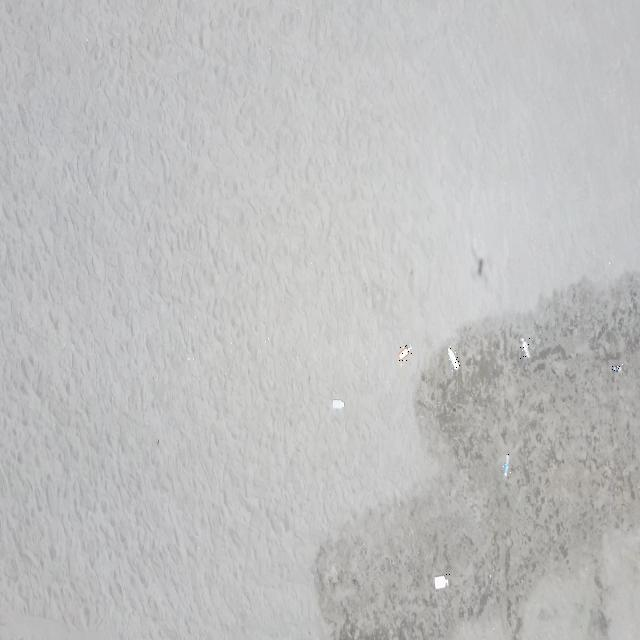Garbage: (447, 347, 459, 368), (397, 344, 412, 360), (433, 575, 447, 588), (520, 337, 528, 356), (476, 259, 483, 275), (332, 399, 344, 407), (503, 452, 507, 476), (612, 364, 622, 372)
